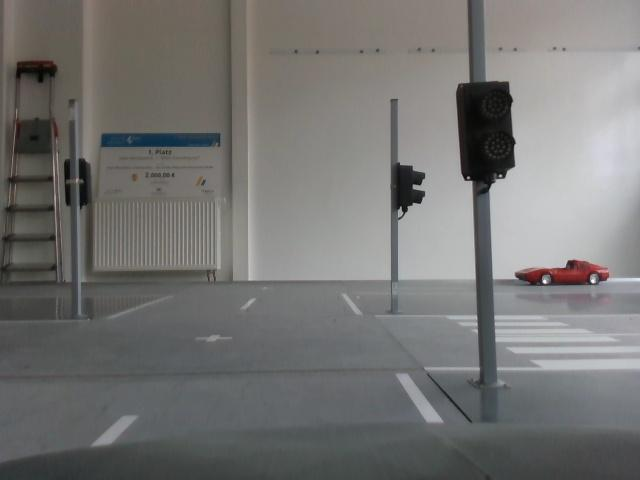car: (516, 250, 611, 295)
traffic light: (457, 80, 518, 185), (390, 159, 428, 227)
